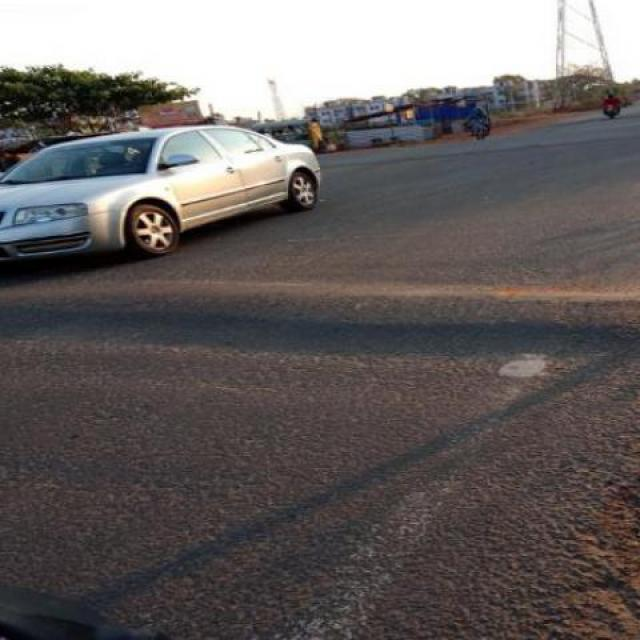Unmarked Bump: (1, 280, 639, 358)
